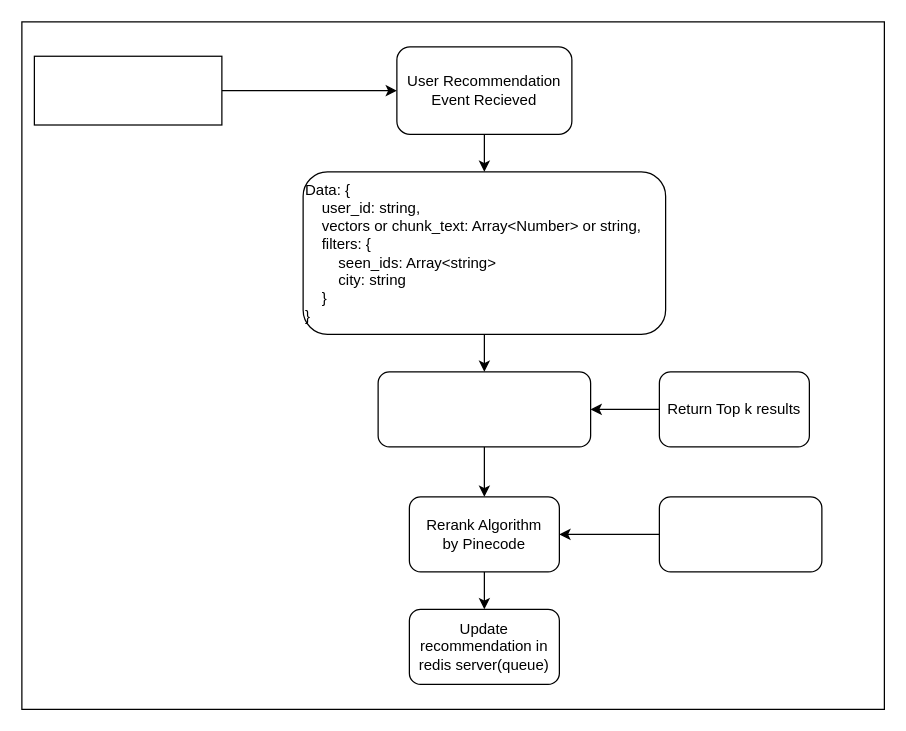
Some shapes in this 906 by 731 pixel diagram are drawn without their labels. The centre of each missing label's shape, as x and y in pixels:
Event published as <= 5 recommends are left: the point at 127,90
Pinecode Index using filters.city and search query with filters.seen_ids: the point at 484,409
Return Top n results from Top k results for better diversity.: the point at 740,534
